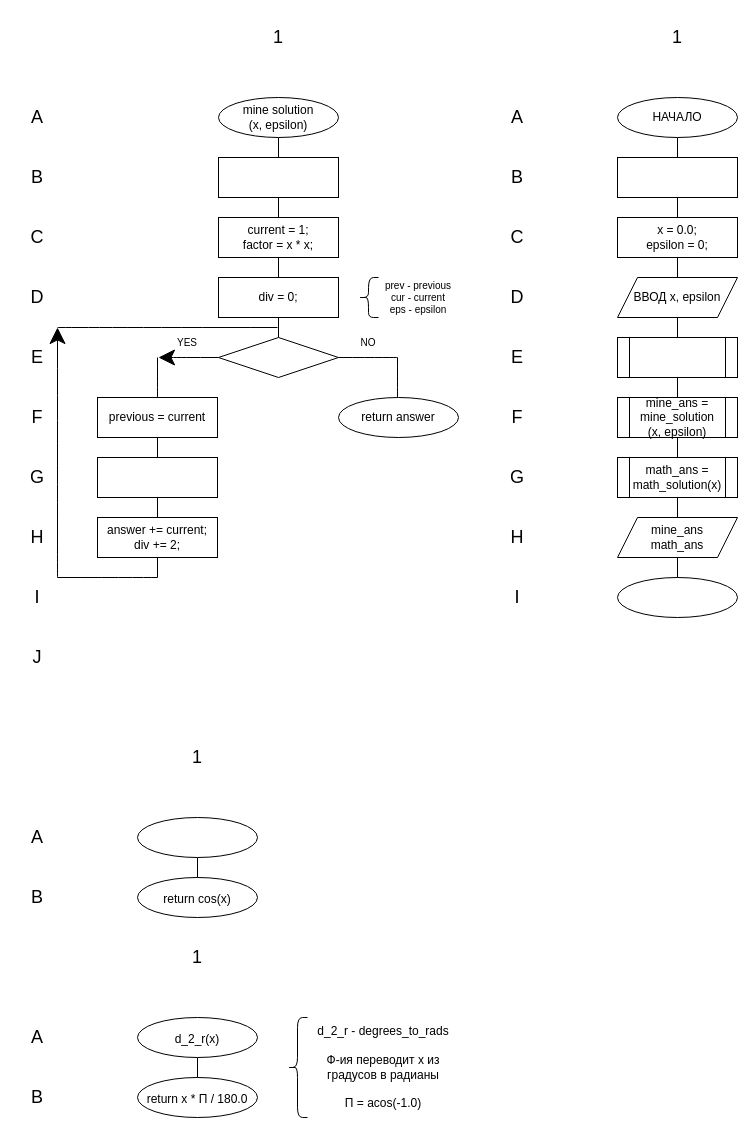
This 755x1135 diagram has some shape labels left out. Here are the shapes that lost their labels. From the top down, the box of each, then its label:
(218, 156, 338, 198): answer = 1; previous = 0;
(616, 156, 738, 198): mine_ans = 0.0; math_ans = 0.0;
(218, 336, 338, 378): fabs(prev - cur) > eps
(616, 336, 738, 378): x = d_2_r(x);
(96, 456, 218, 498): current = (-1) * previous * factor / ((div + 1)*(div + 2))
(616, 576, 738, 618): КОНЕЦ
(136, 816, 258, 858): math_solution(x)
